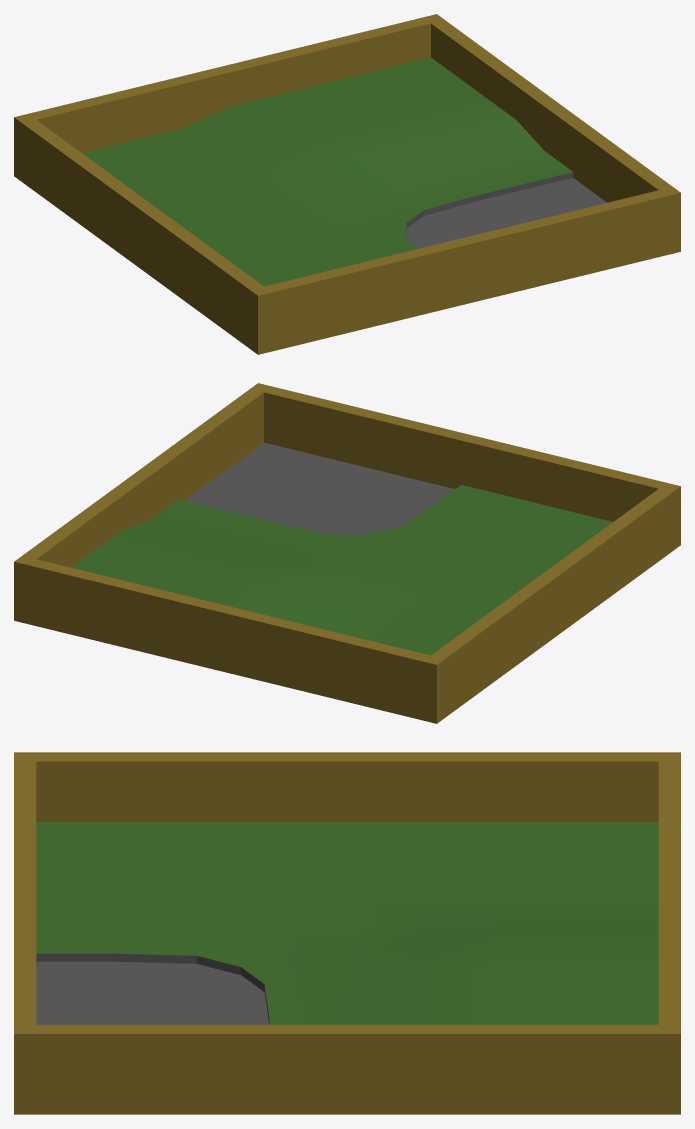
Rendered from DemoTown.fbx.
3 renders of one model, top to bottom at view 1: azimuth 30°, elevation 25°; view 2: azimuth 150°, elevation 25°; view 3: azimuth 270°, elevation 25°, orthographic. The views are drawn at different scales.
Visible parts, largest first — view 1: pCube1; view 2: pCube1; view 3: pCube1.
Boxes of the visible parts, bbox=[...] form: pCube1: bbox=[14, 14, 680, 354]; pCube1: bbox=[14, 383, 680, 723]; pCube1: bbox=[14, 752, 680, 1114].
Size of the model in its own units: 30 by 4 by 30.
